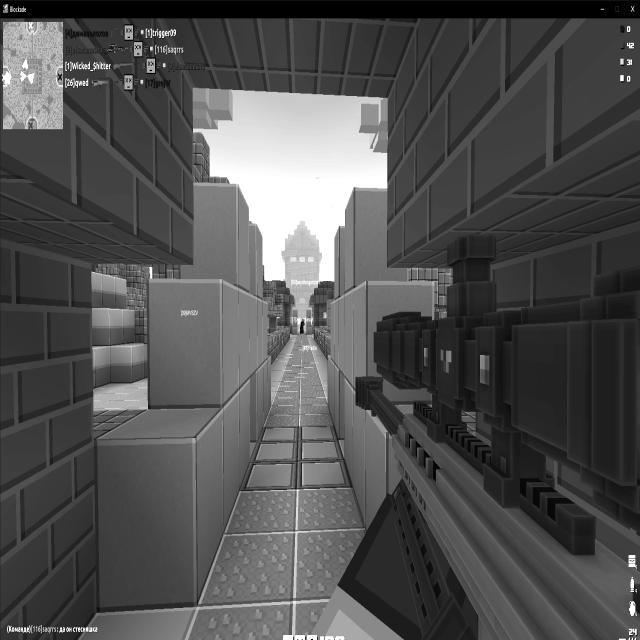Head: (301, 318, 304, 323)
Player: (299, 317, 305, 334)
